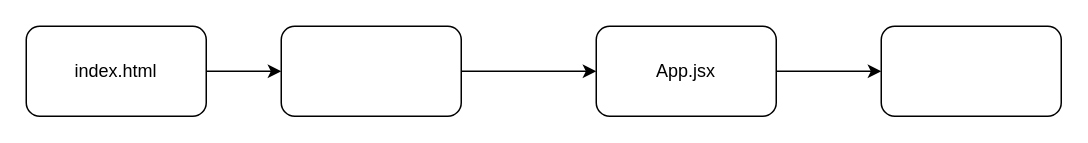
This 1088x143 diagram has some shape labels left out. Here are the shapes that lost their labels. From the top down, the box of each, then its label:
(280, 25, 461, 116): main.jsx
(880, 25, 1061, 116): AuthContext.jsx
